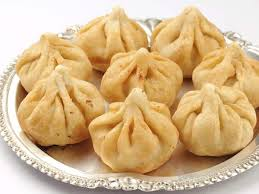modak: (8, 68, 112, 151), (92, 86, 182, 173), (179, 82, 259, 155), (101, 42, 188, 105), (193, 33, 259, 102), (78, 9, 155, 68), (157, 6, 224, 73), (11, 33, 96, 84)
